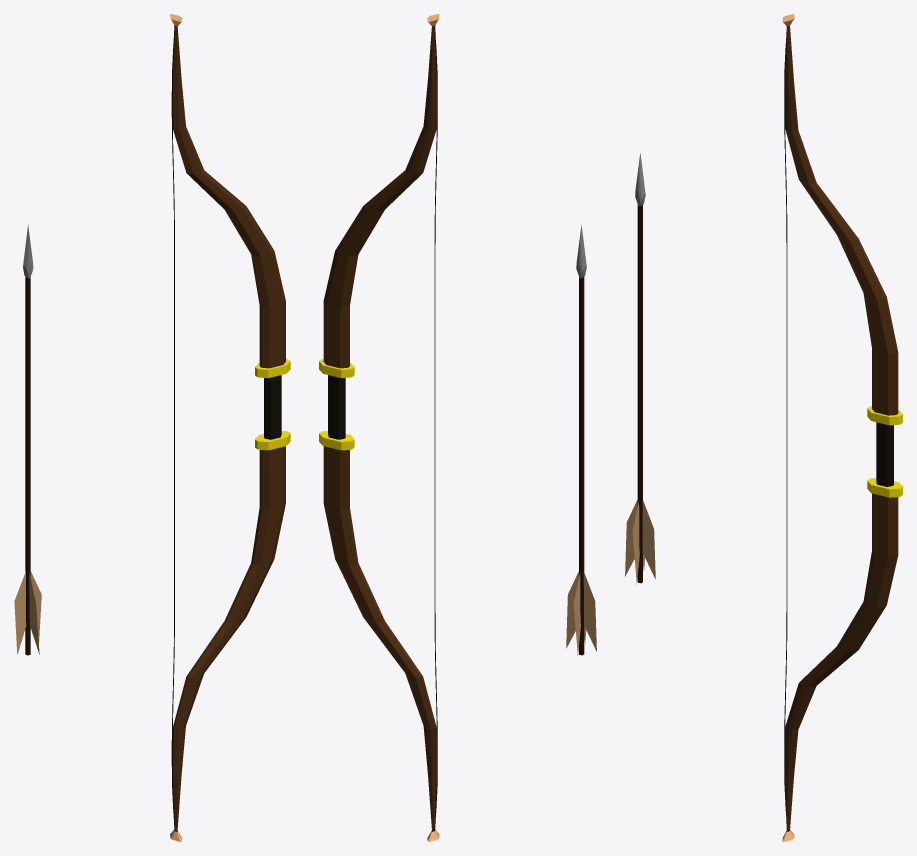
File: Low Poly Bow and Arrow.fbx
3 renders of one model, left to right at view 1: azimuth 30°, elevation 25°; view 2: azimuth 150°, elevation 25°; view 3: azimuth 330°, elevation 25°, orthographic.
Parts seen in each view (by area): view 1: Cube.003, Plane.002; view 2: Cube.003, Plane.002; view 3: Cube.003, Plane.002.
Part boxes in pixels (x1,y1,x2,y2): Cube.003: [170, 14, 290, 841]; Plane.002: [14, 224, 41, 655]; Cube.003: [319, 14, 439, 841]; Plane.002: [566, 225, 596, 655]; Cube.003: [782, 14, 902, 841]; Plane.002: [625, 153, 655, 584].
Size of the model in its own units: 55.67 by 159 by 5.55.
